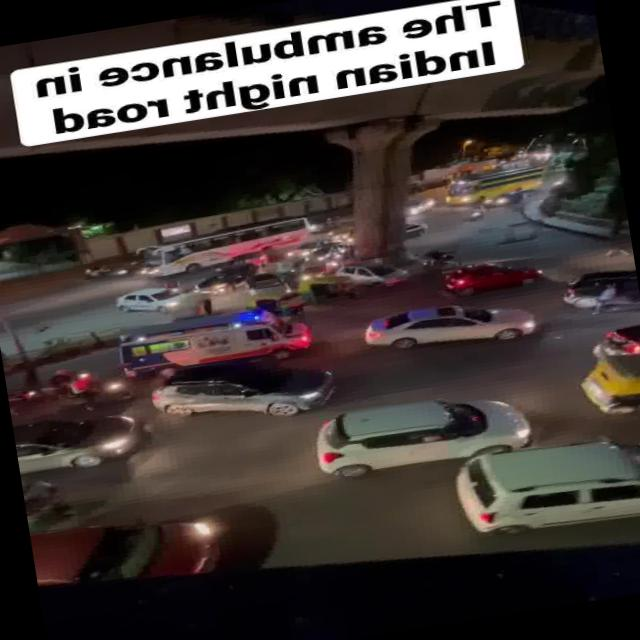ambulance: (96, 292, 323, 383)
